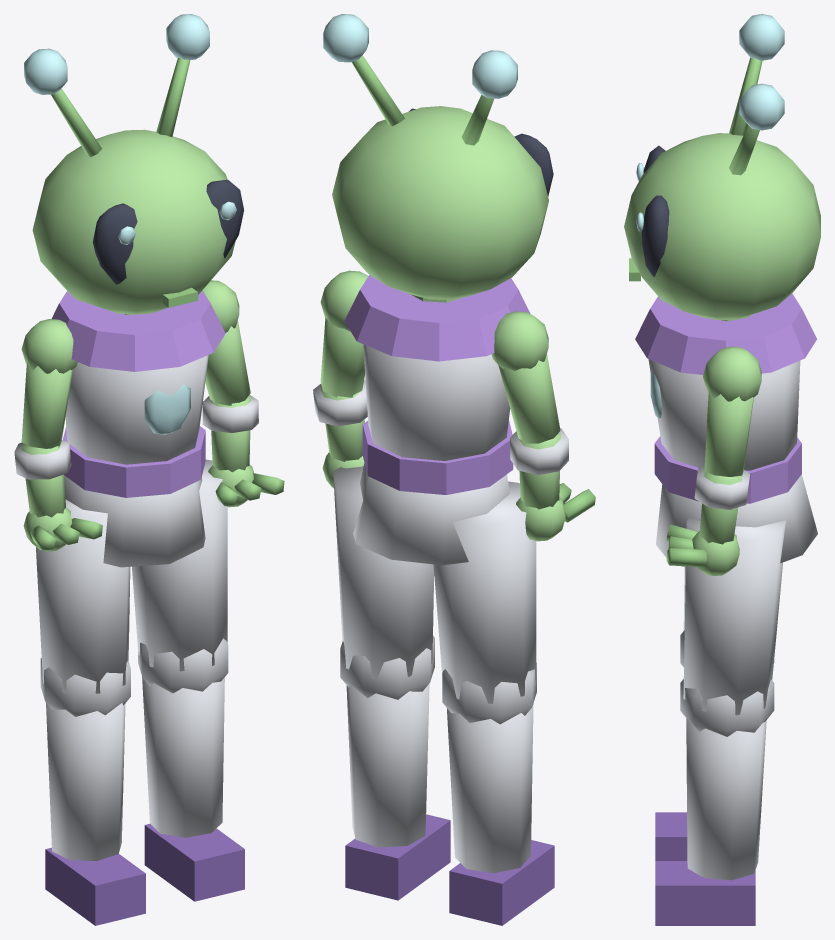
Rendered from meeple_10_alien_stand.glb.
The picture shows the model from 3 angles, left to right: view 1: azimuth 30°, elevation 25°; view 2: azimuth 150°, elevation 25°; view 3: azimuth 270°, elevation 25°; orthographic projection. The views are drawn at different scales.
Parts seen in each view (by area): view 1: meeple_10_alien_stand; view 2: meeple_10_alien_stand; view 3: meeple_10_alien_stand.
Boxes of the visible parts, x1,y1,x2,y2 form: meeple_10_alien_stand: (14, 14, 284, 925); meeple_10_alien_stand: (313, 14, 595, 925); meeple_10_alien_stand: (624, 14, 820, 925).
Bounding box in the file's own units: 0.5237 × 1.71 × 0.3631.
